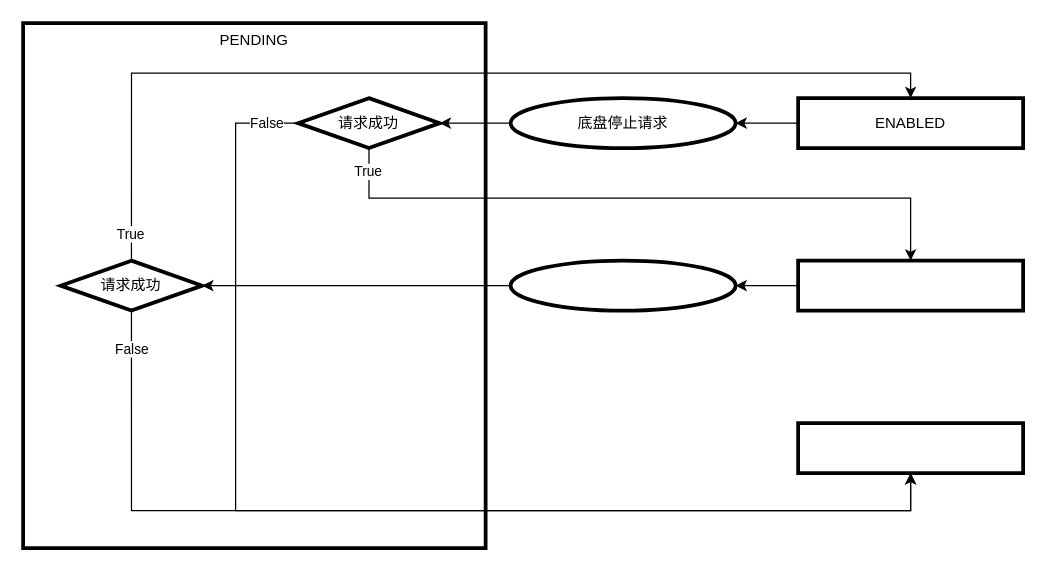
Image size: 1046x571. Some labels were removed from this diagram. Here are the shapes that lost their labels. From the top down, the centre of each, then its label:
the point at 622,285: 底盘启动请求
the point at 910,285: DISABLED
the point at 910,447: QUIT
